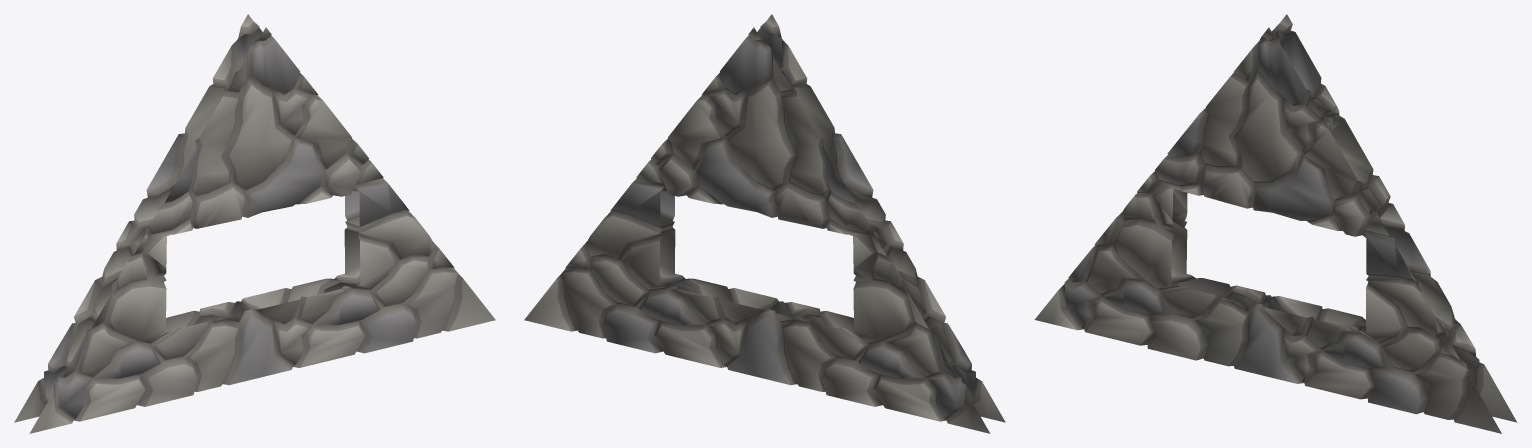
The model's file is rpgpp_ag_roof_end_01_6x5_wall_window_03b.fbx.
3 views of the same model, side by side, from view 1: azimuth 30°, elevation 25°; view 2: azimuth 150°, elevation 25°; view 3: azimuth 330°, elevation 25° (orthographic).
Visible parts, largest first — view 1: rpgpp_ag_roof_end_01_6x5_wall_window_03b; view 2: rpgpp_ag_roof_end_01_6x5_wall_window_03b; view 3: rpgpp_ag_roof_end_01_6x5_wall_window_03b.
Part boxes in pixels (<box>): rpgpp_ag_roof_end_01_6x5_wall_window_03b: <box>14,14,495,433</box>; rpgpp_ag_roof_end_01_6x5_wall_window_03b: <box>524,14,1005,433</box>; rpgpp_ag_roof_end_01_6x5_wall_window_03b: <box>1034,14,1517,433</box>.
Bounding box in the file's own units: 6.38 × 4.58 × 0.4229.
